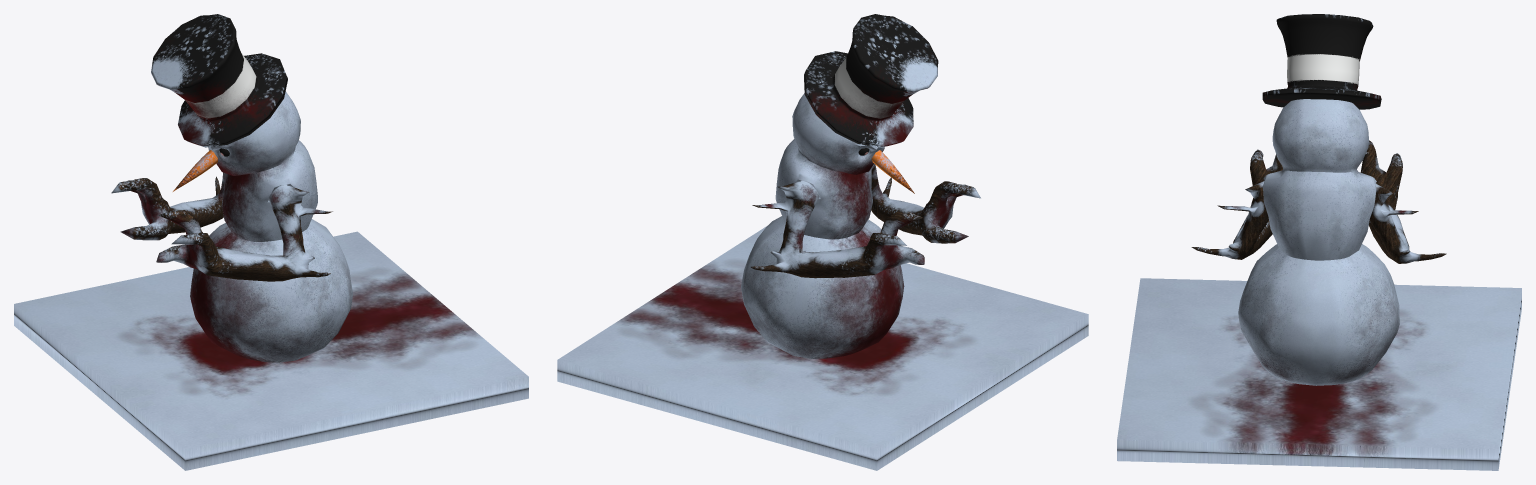
Rendered from dmuñecodenieve_lev5.glb.
The picture shows the model from 3 angles, left to right: view 1: azimuth 30°, elevation 25°; view 2: azimuth 150°, elevation 25°; view 3: azimuth 270°, elevation 25°; orthographic projection.
Visible parts, largest first — view 1: Pavimento1, SnowMan1, Cappello1, Braccia_e__Mani1, Carota1; view 2: Pavimento1, SnowMan1, Cappello1, Braccia_e__Mani1; view 3: Pavimento1, SnowMan1, Cappello1, Braccia_e__Mani1.
Part boxes in pixels (x1,y1,x2,y2): Pavimento1: (14, 231, 528, 470); SnowMan1: (190, 91, 352, 362); Cappello1: (151, 14, 287, 147); Braccia_e__Mani1: (111, 172, 332, 281); Carota1: (173, 150, 217, 191); Pavimento1: (557, 225, 1088, 470); SnowMan1: (741, 93, 904, 358); Cappello1: (804, 14, 938, 147); Braccia_e__Mani1: (750, 163, 980, 278); Pavimento1: (1117, 278, 1521, 470); SnowMan1: (1238, 99, 1399, 385); Cappello1: (1262, 14, 1381, 109); Braccia_e__Mani1: (1191, 140, 1446, 263).
Bounding box in the file's own units: 52.33 × 50.07 × 52.33.
6 materials, 6 textured.
